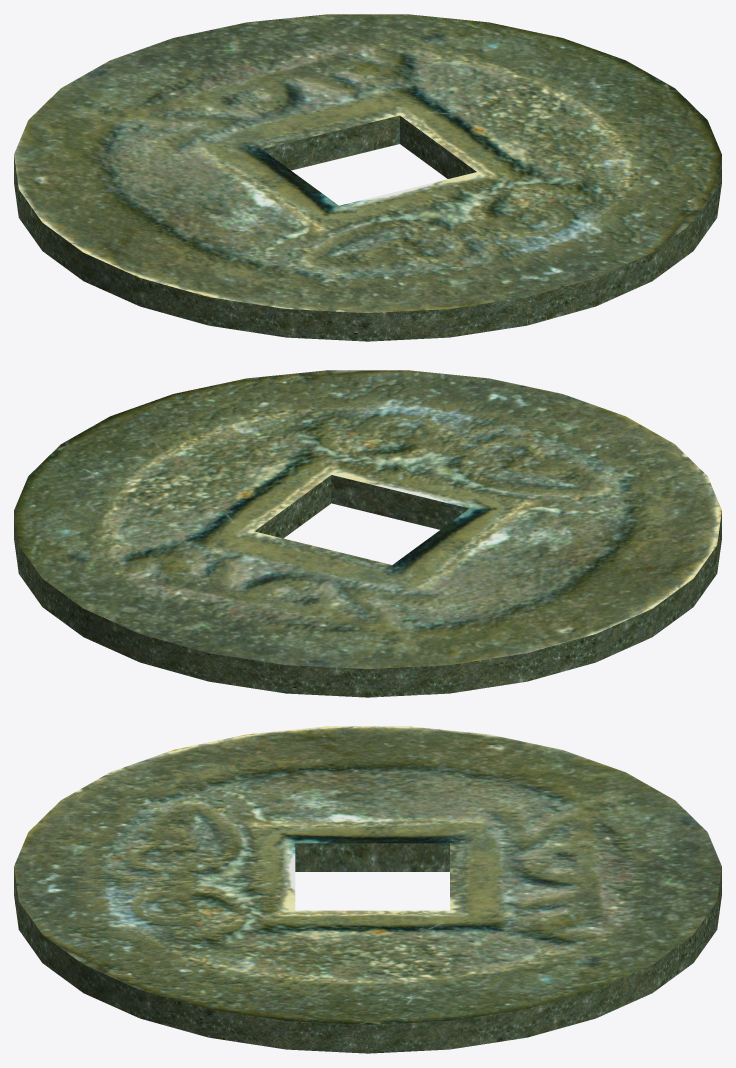
File: coin.gltf
3 views of the same model, one above another, from view 1: azimuth 30°, elevation 25°; view 2: azimuth 150°, elevation 25°; view 3: azimuth 270°, elevation 25° (orthographic).
Parts seen in each view (by area): view 1: Cylinder002; view 2: Cylinder002; view 3: Cylinder002.
Boxes of the visible parts, x1,y1,x2,y2 form: Cylinder002: (14, 14, 721, 341); Cylinder002: (14, 370, 721, 697); Cylinder002: (14, 726, 721, 1053).
Bounding box in the file's own units: 1122 × 50 × 1124.
1 material, 1 textured.
